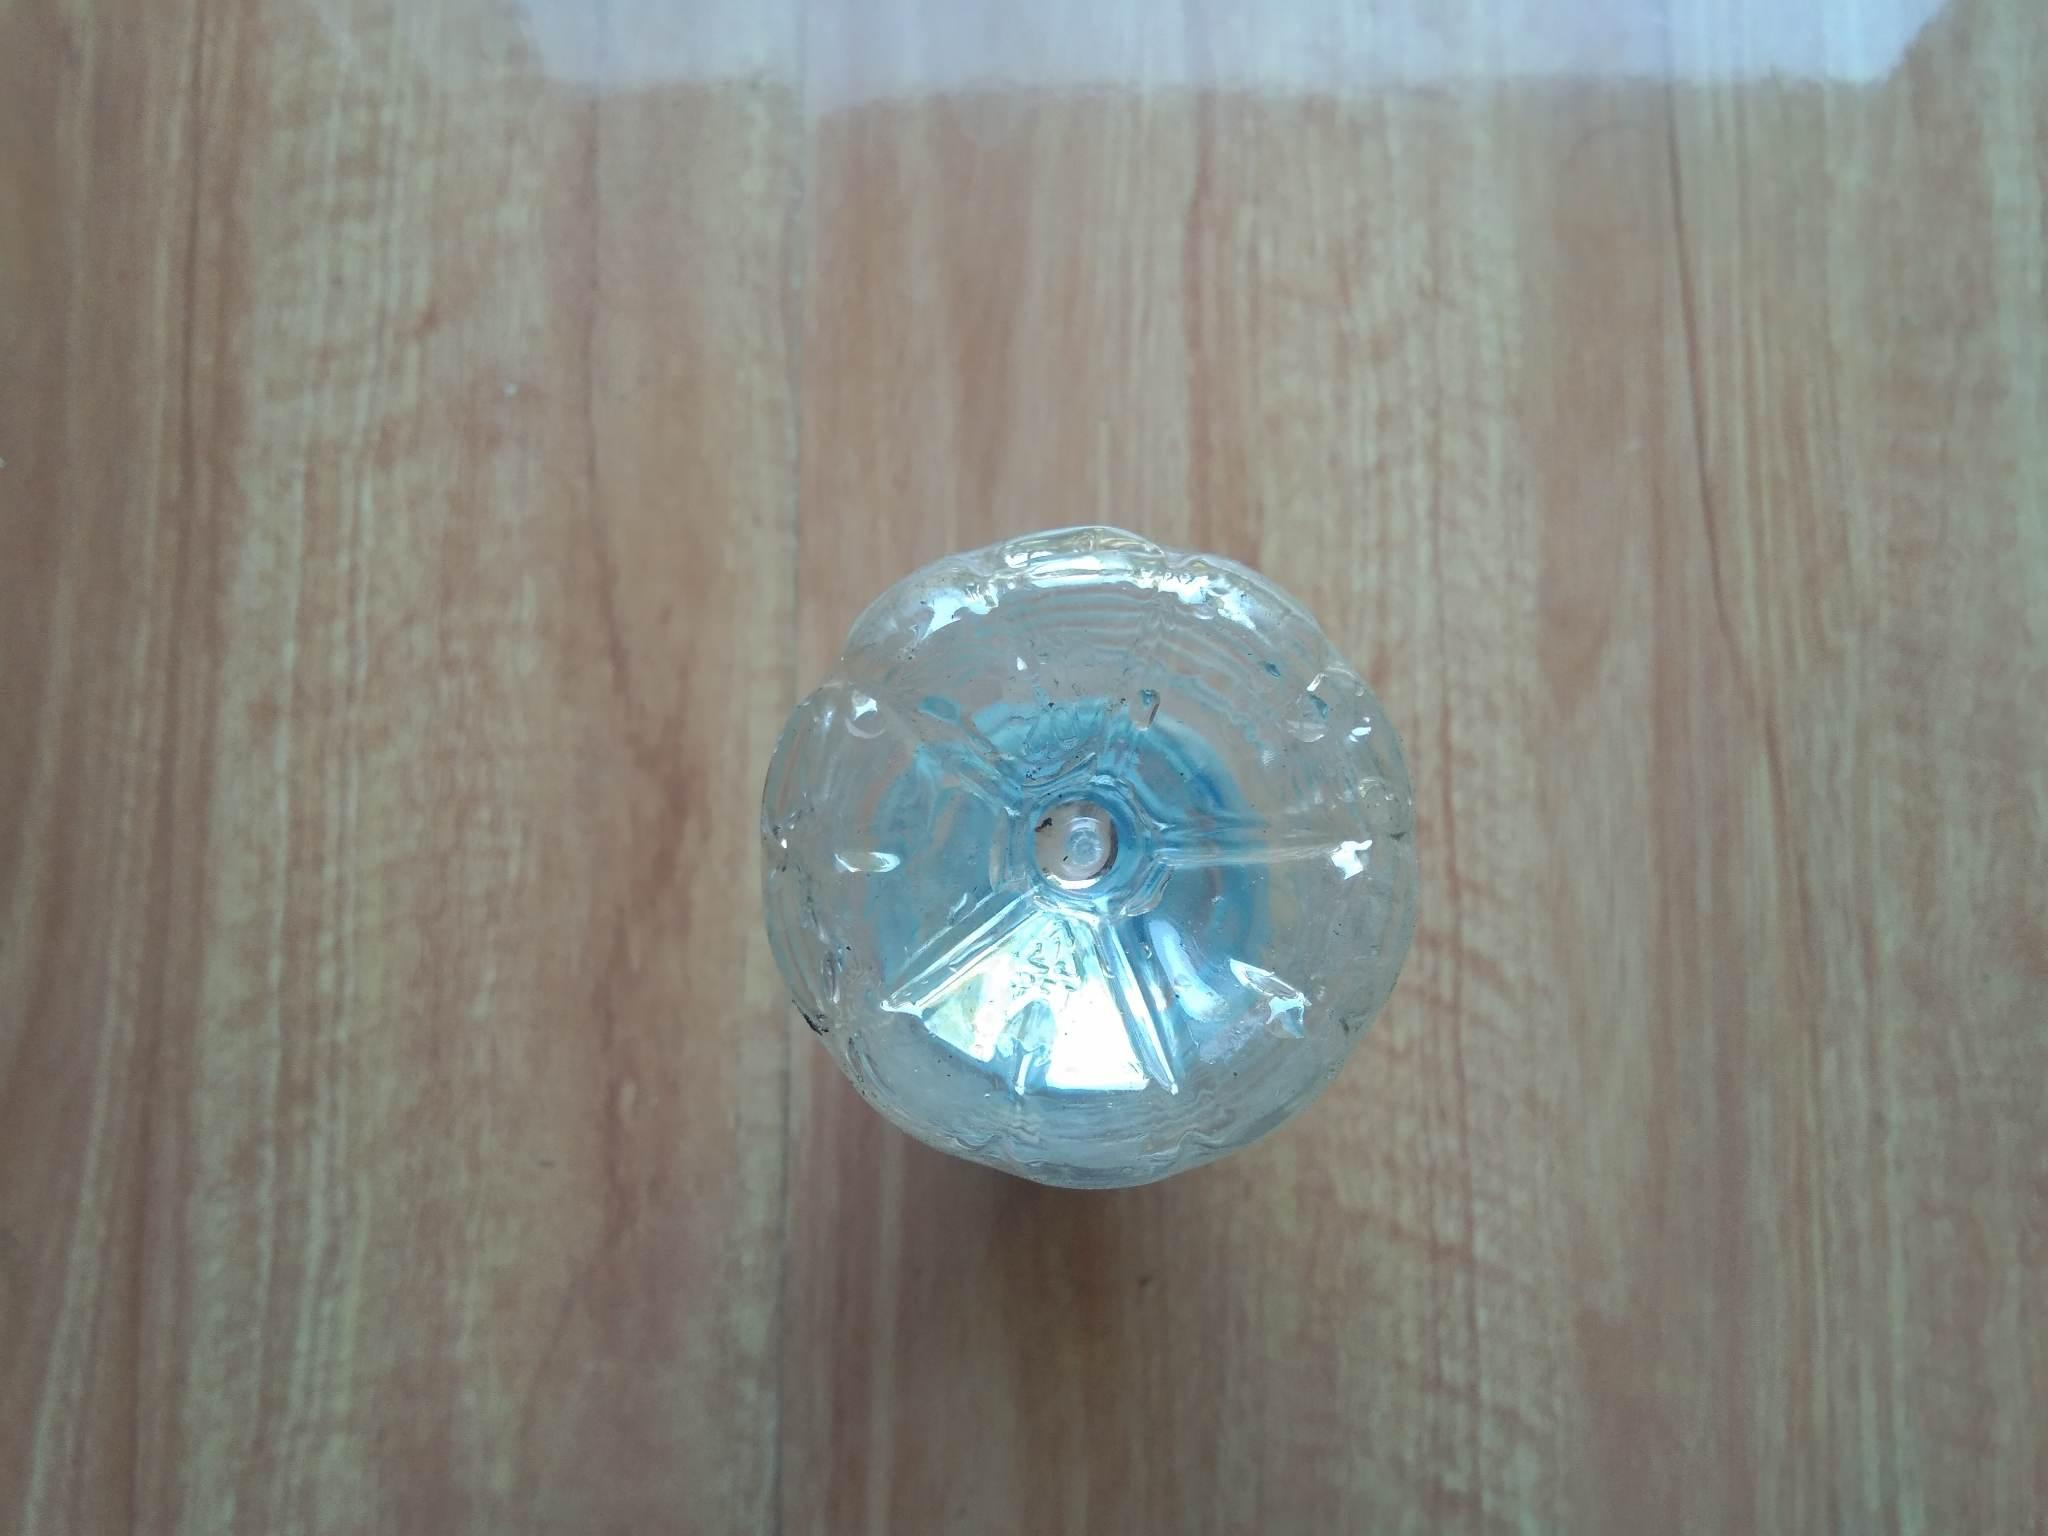plastic: (676, 461, 1488, 1271)
